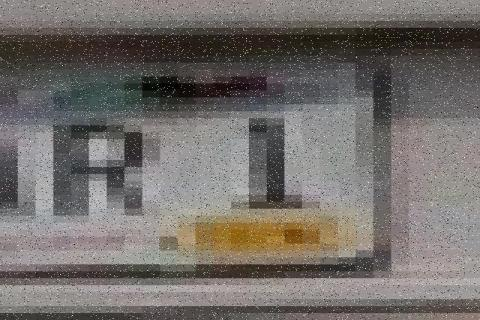LicensePlate: (0, 28, 457, 306)
